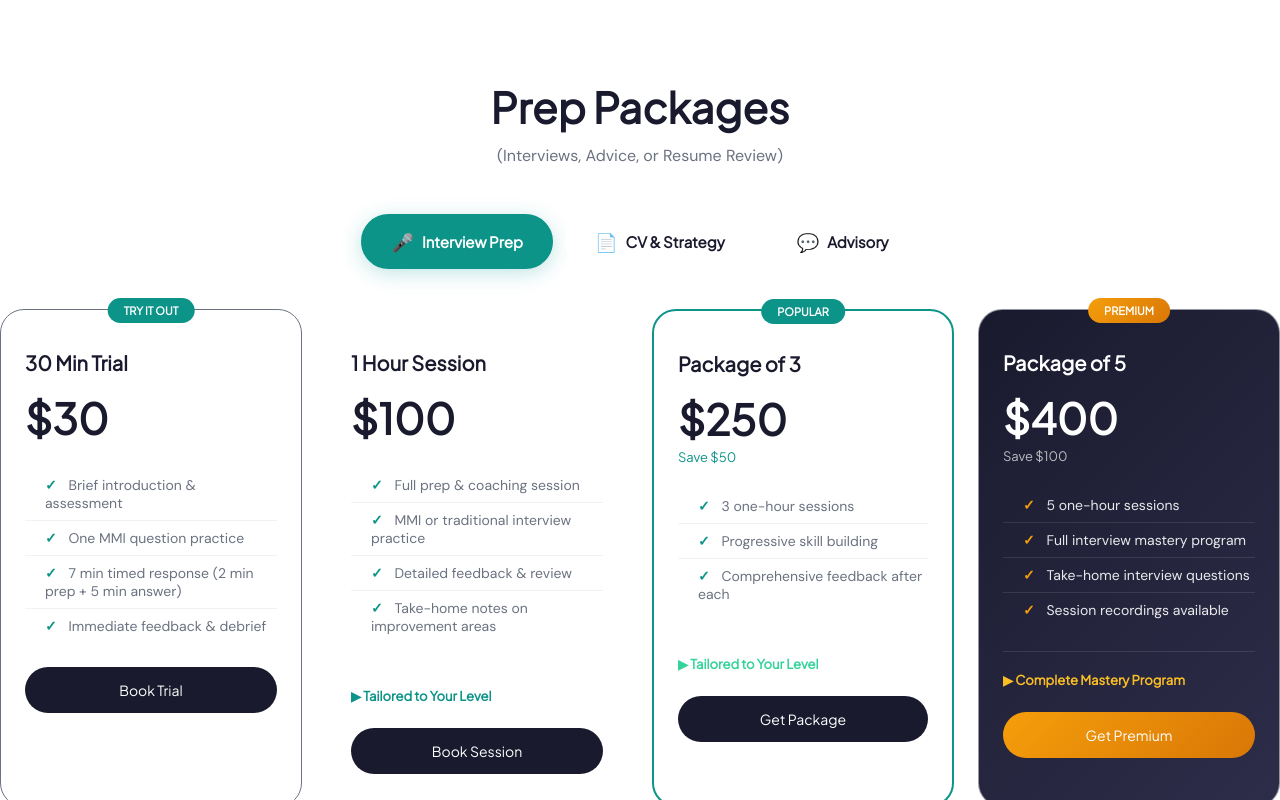
Packages Component › shows login modal after clicking purchase
The width and height of the screenshot is (1280, 800).
Click the button "Book Trial". click: (151, 690)
box: [25, 667, 277, 713]
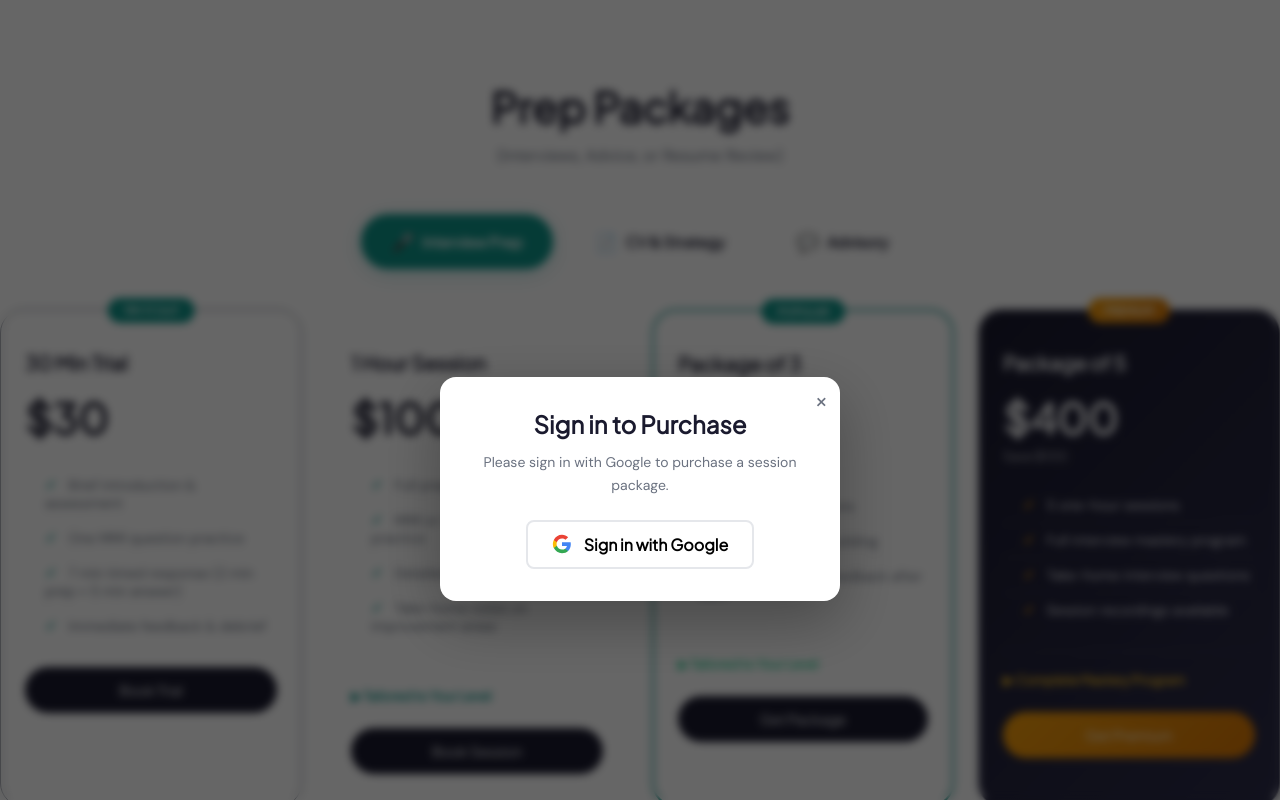
Result: the element with class "login-prompt-modal" is shown at [440, 377, 840, 601]
